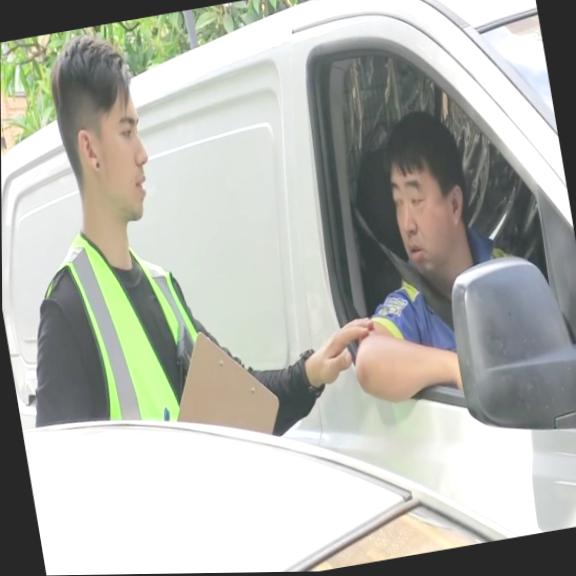safety_vest: (32, 216, 211, 442)
